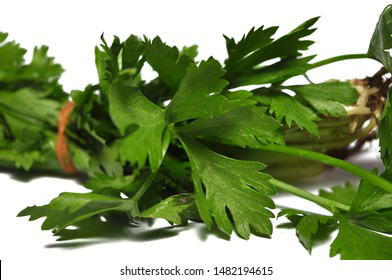Seledri: (35, 37, 390, 233)
